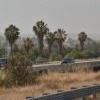Palm tree: (27, 14, 87, 60)
